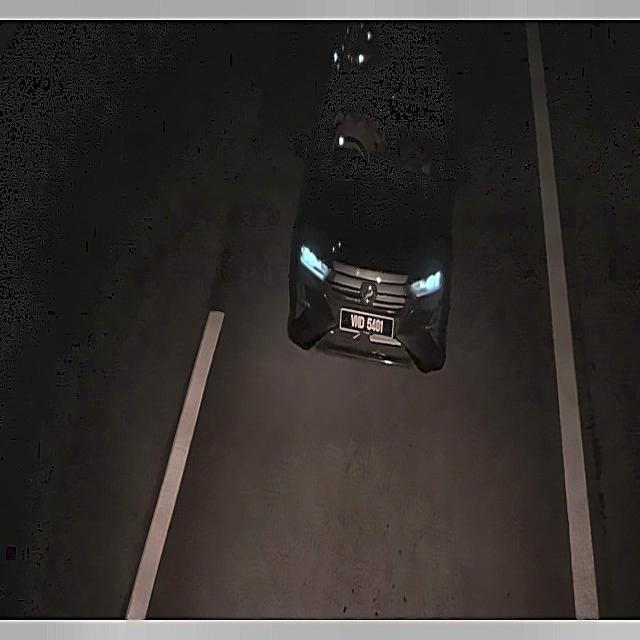car: (337, 307, 396, 341)
